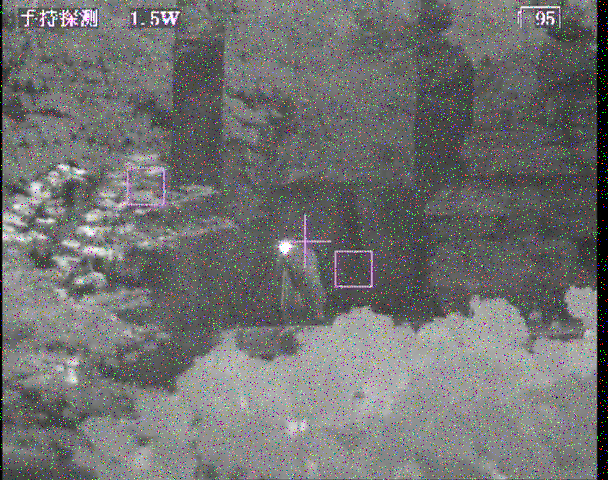my: (276, 239, 293, 255)
